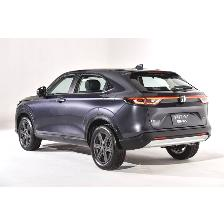NON-EV: (17, 60, 214, 171)
